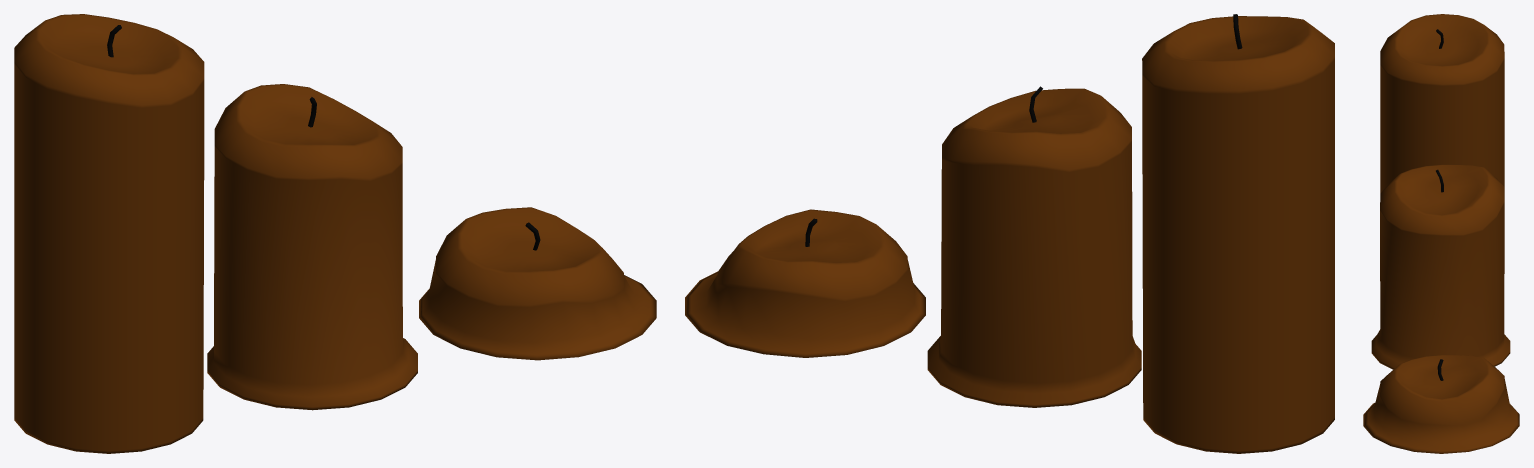
File: R_Candles.FBX
3 renders of one model, left to right at view 1: azimuth 30°, elevation 25°; view 2: azimuth 150°, elevation 25°; view 3: azimuth 270°, elevation 25°, orthographic. The views are drawn at different scales.
Visible parts, largest first — view 1: R_Candle_Big, R_Candle_Middle, R_Candle_Small1; view 2: R_Candle_Big, R_Candle_Middle, R_Candle_Small1; view 3: R_Candle_Middle, R_Candle_Big, R_Candle_Small1.
Part boxes in pixels (x1=…): R_Candle_Big: x1=14, y1=14, x2=204, y2=453; R_Candle_Middle: x1=207, y1=84, x2=417, y2=410; R_Candle_Small1: x1=419, y1=207, x2=656, y2=360; R_Candle_Big: x1=1142, y1=14, x2=1334, y2=453; R_Candle_Middle: x1=927, y1=86, x2=1141, y2=407; R_Candle_Small1: x1=685, y1=209, x2=925, y2=357; R_Candle_Middle: x1=1371, y1=164, x2=1510, y2=369; R_Candle_Big: x1=1380, y1=14, x2=1504, y2=273; R_Candle_Small1: x1=1363, y1=355, x2=1519, y2=453.
Bounding box in the file's own units: 29.68 × 17.95 × 9.92.
